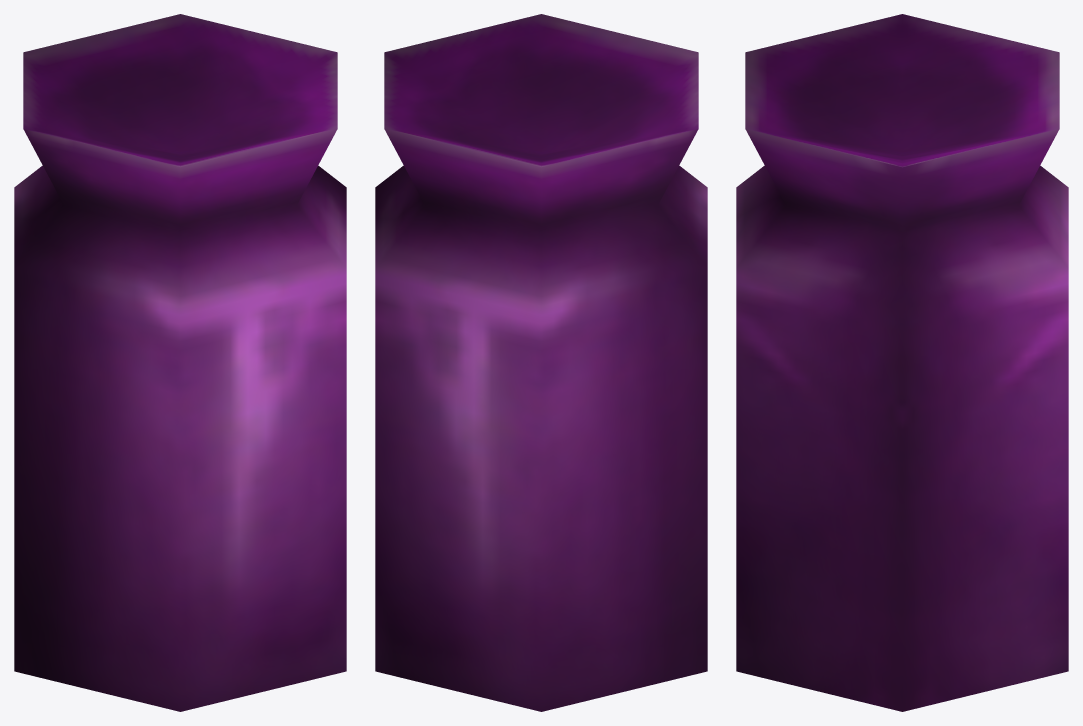
The model's file is F_pingzi001.fbx.
The picture shows the model from 3 angles, left to right: view 1: azimuth 30°, elevation 25°; view 2: azimuth 150°, elevation 25°; view 3: azimuth 270°, elevation 25°; orthographic projection.
Parts seen in each view (by area): view 1: F_pingzi001; view 2: F_pingzi001; view 3: F_pingzi001.
Boxes of the visible parts, left/top/right/bottom form: F_pingzi001: left=14, top=14, right=346, bottom=711; F_pingzi001: left=375, top=14, right=707, bottom=711; F_pingzi001: left=736, top=14, right=1068, bottom=711.
Size of the model in its own units: 17.61 by 27.34 by 15.25.
